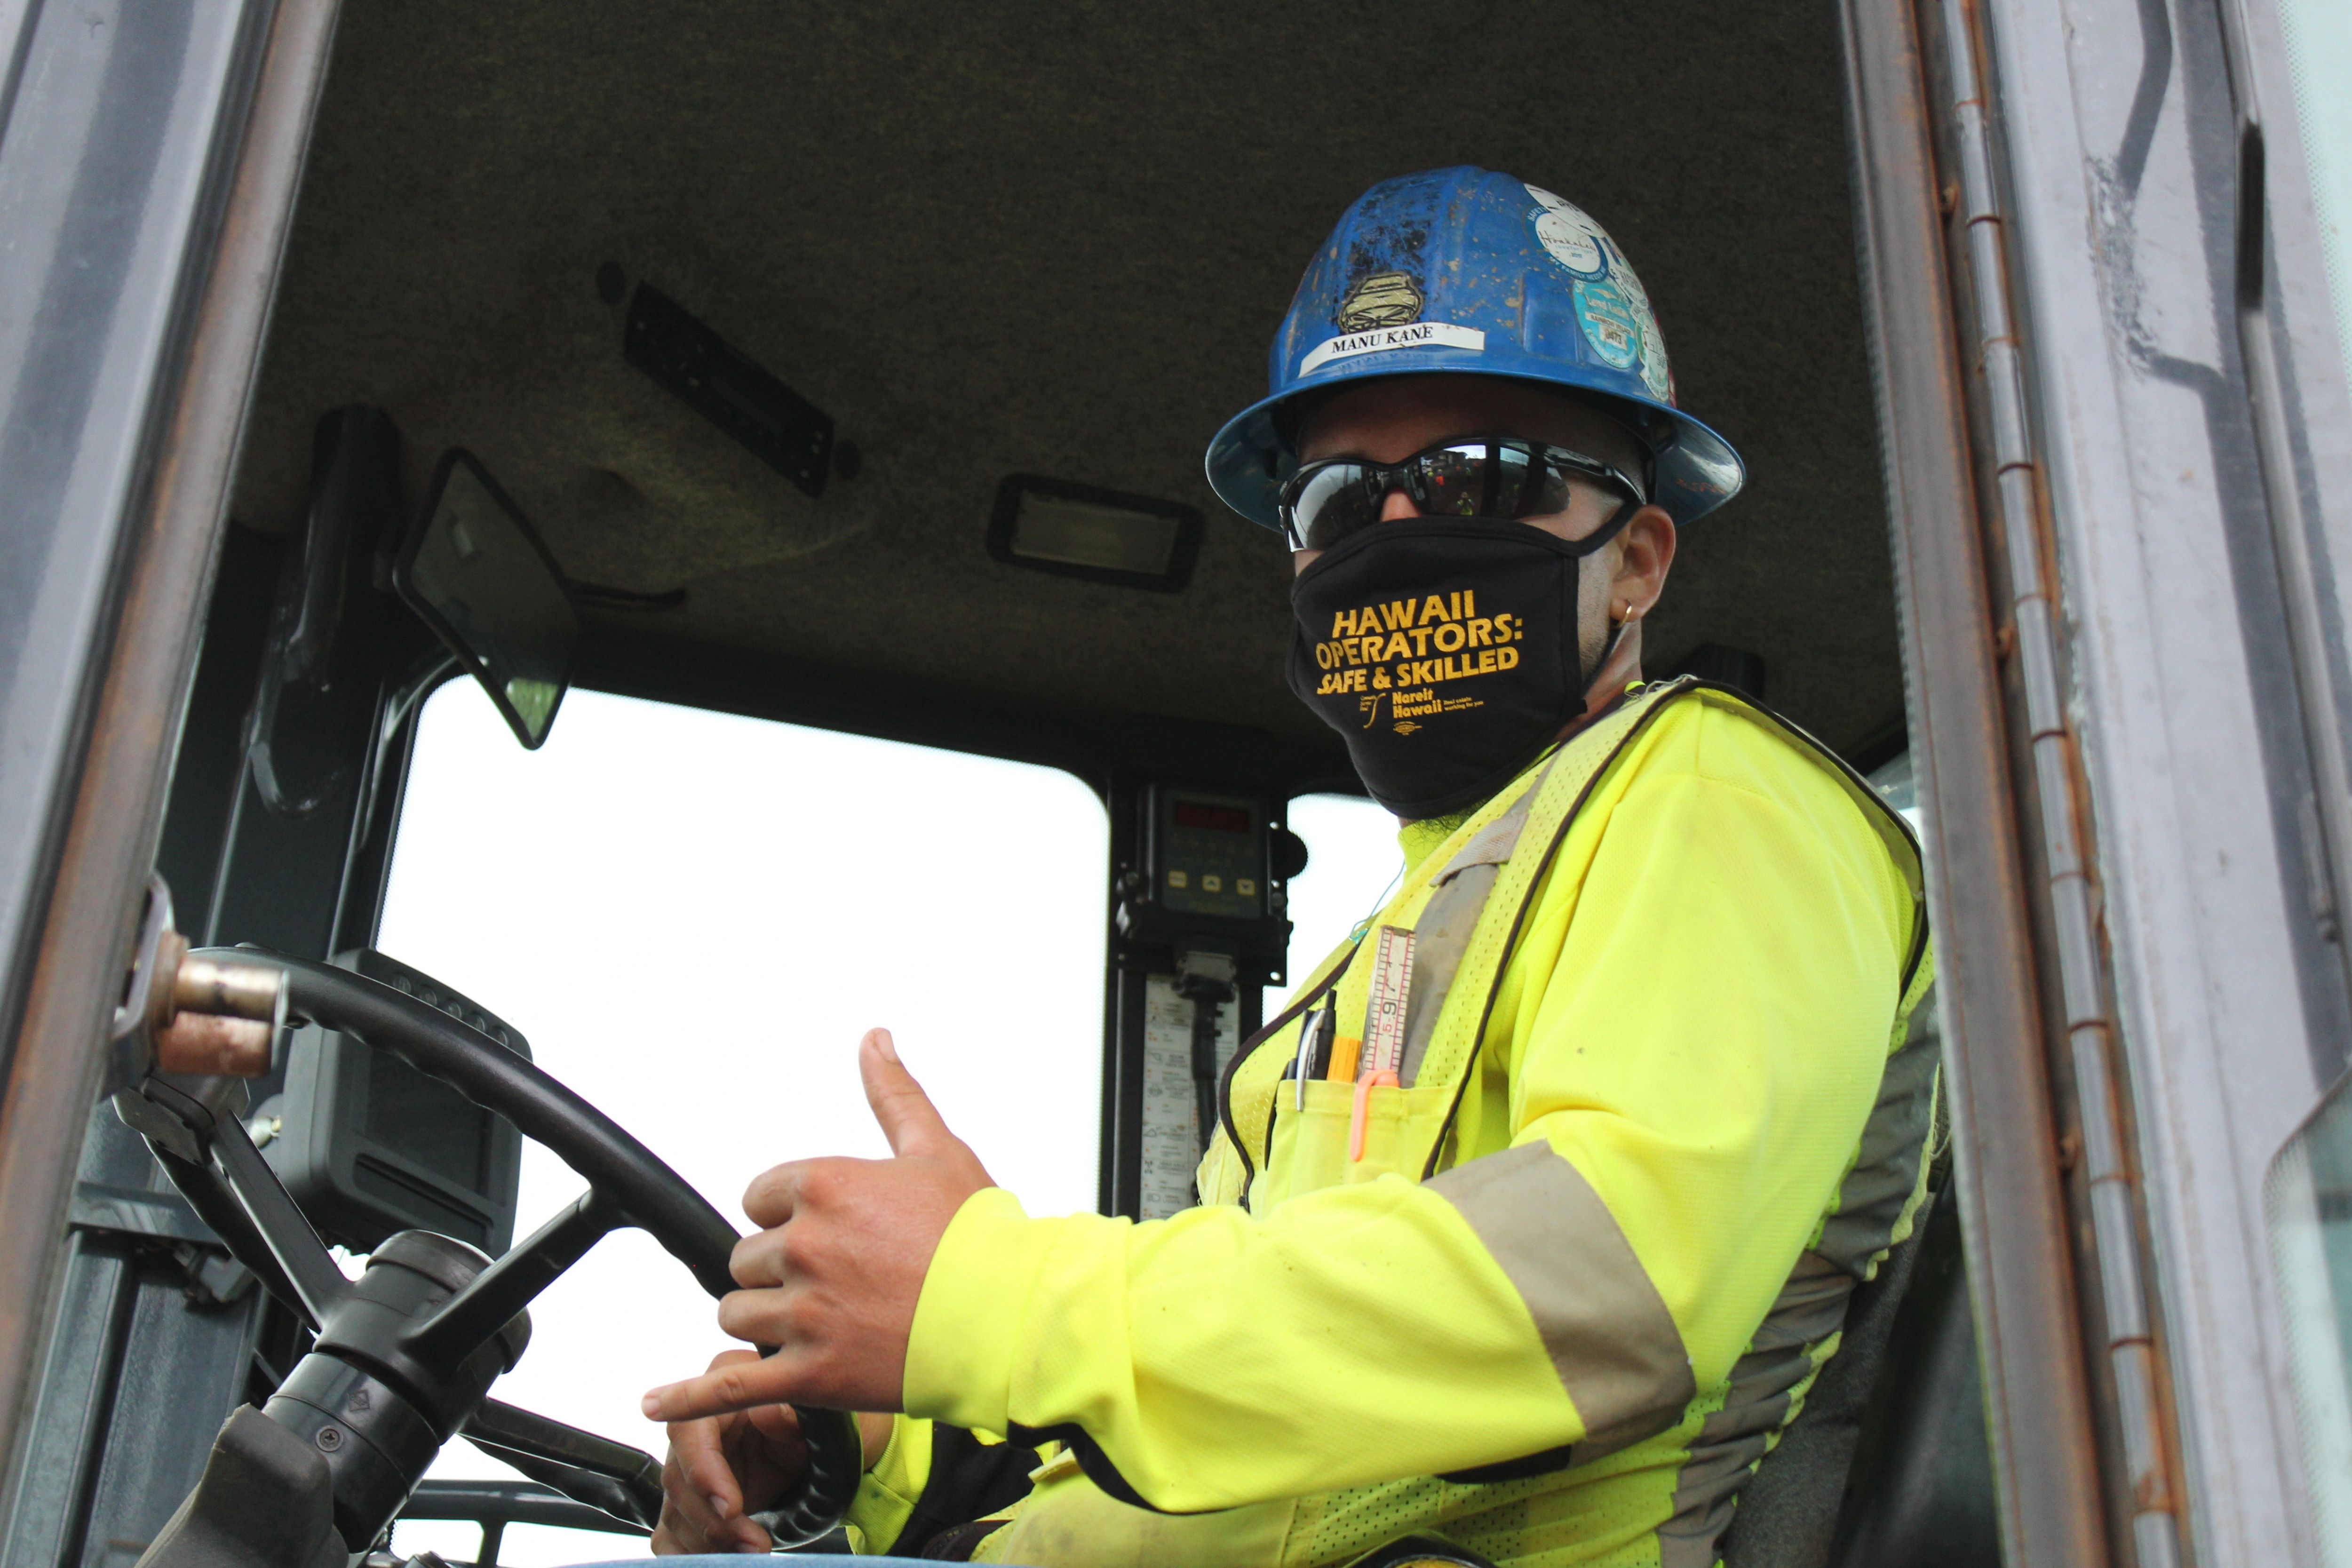Helmet: (1206, 152, 1755, 541)
Mask: (1277, 504, 1587, 826)
Safety_Jacket: (819, 663, 1939, 1568)
